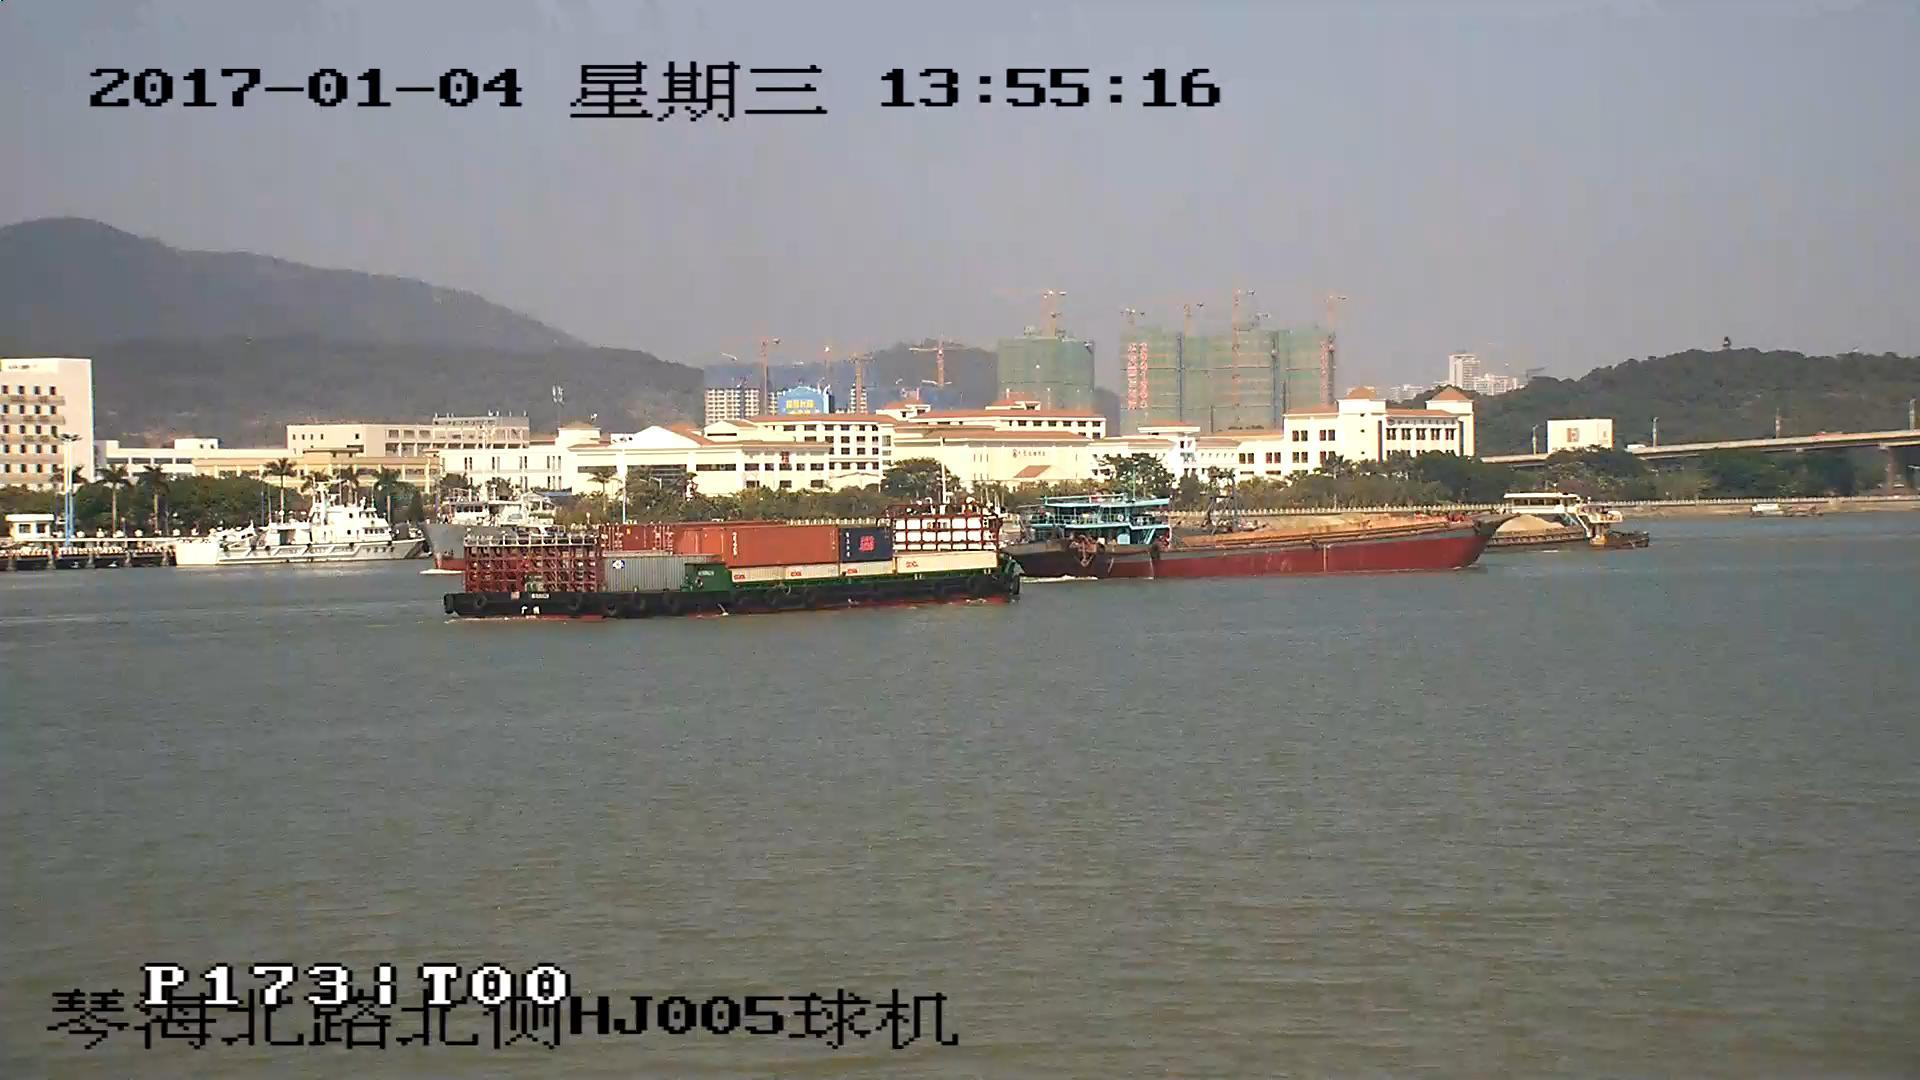Ship: (446, 513, 1022, 617), (1022, 516, 1513, 583), (1491, 491, 1644, 549)
